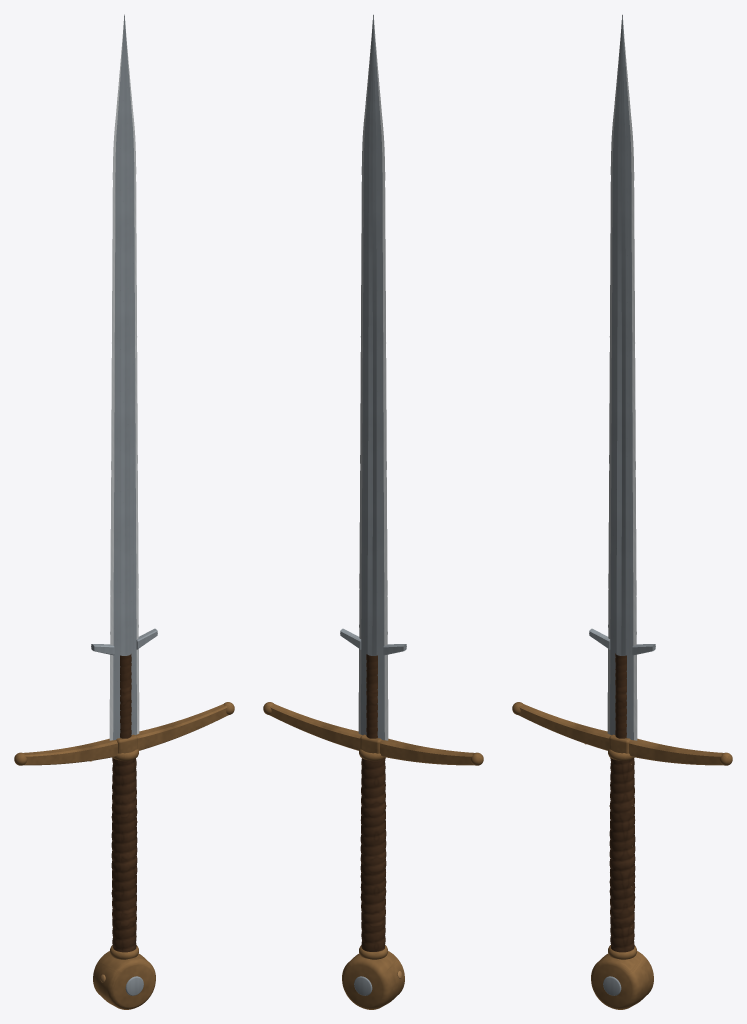
Rendered from greatsword.glb.
3 views of the same model, side by side, from view 1: azimuth 30°, elevation 25°; view 2: azimuth 150°, elevation 25°; view 3: azimuth 330°, elevation 25° (orthographic).
Visible parts, largest first — view 1: steel / forged blade steel, bronze / cast bronze with patina, leather / oiled leather wrap, edge / honed bright bevel; view 2: steel / forged blade steel, bronze / cast bronze with patina, leather / oiled leather wrap, edge / honed bright bevel; view 3: steel / forged blade steel, bronze / cast bronze with patina, leather / oiled leather wrap, edge / honed bright bevel.
Boxes of the visible parts, left/top/right/bottom form: steel / forged blade steel: left=91, top=14, right=157, bottom=995; bronze / cast bronze with patina: left=14, top=702, right=234, bottom=1009; leather / oiled leather wrap: left=111, top=654, right=137, bottom=952; edge / honed bright bevel: left=109, top=16, right=139, bottom=740; steel / forged blade steel: left=340, top=14, right=406, bottom=995; bronze / cast bronze with patina: left=263, top=702, right=483, bottom=1009; leather / oiled leather wrap: left=360, top=654, right=386, bottom=951; edge / honed bright bevel: left=358, top=16, right=388, bottom=740; steel / forged blade steel: left=589, top=14, right=655, bottom=995; bronze / cast bronze with patina: left=512, top=702, right=732, bottom=1009; leather / oiled leather wrap: left=609, top=653, right=635, bottom=952; edge / honed bright bevel: left=607, top=16, right=637, bottom=740.
Size of the model in its own units: 0.3798 by 1.64 by 0.0666.
Materials: 6 (4 with a texture image).
